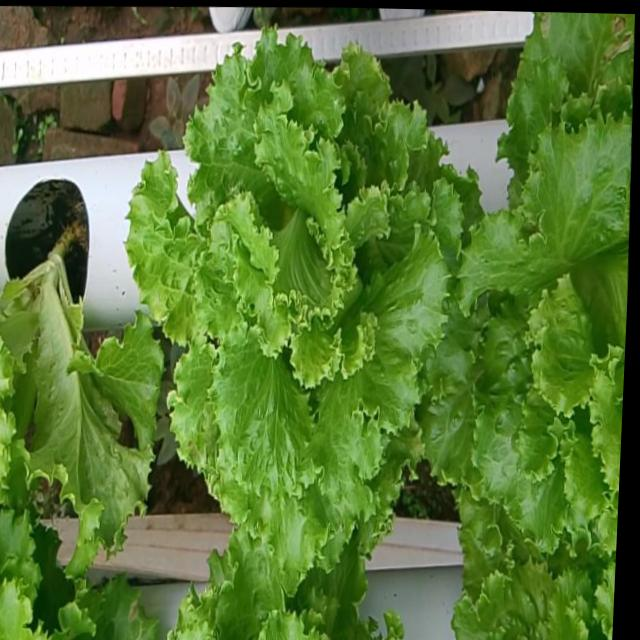Mature: (128, 27, 463, 567), (424, 105, 632, 548)
